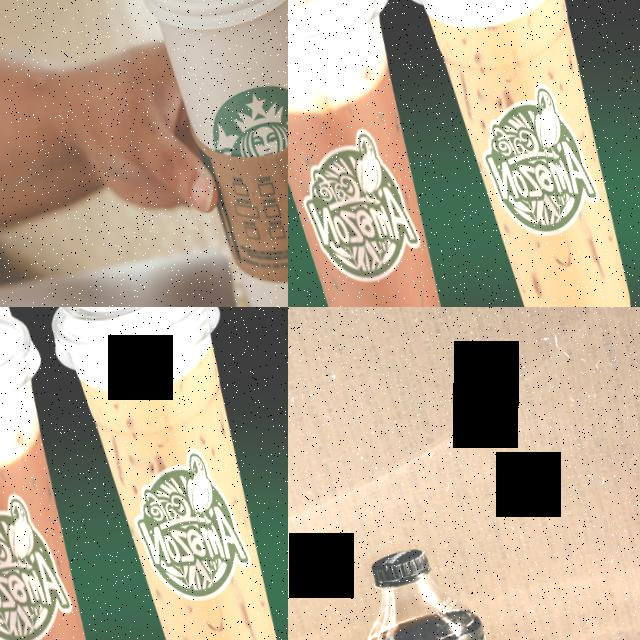bottle: (341, 526, 535, 640)
cup: (29, 307, 288, 640), (377, 0, 640, 307), (288, 0, 503, 307), (0, 307, 155, 640), (121, 0, 288, 307)
